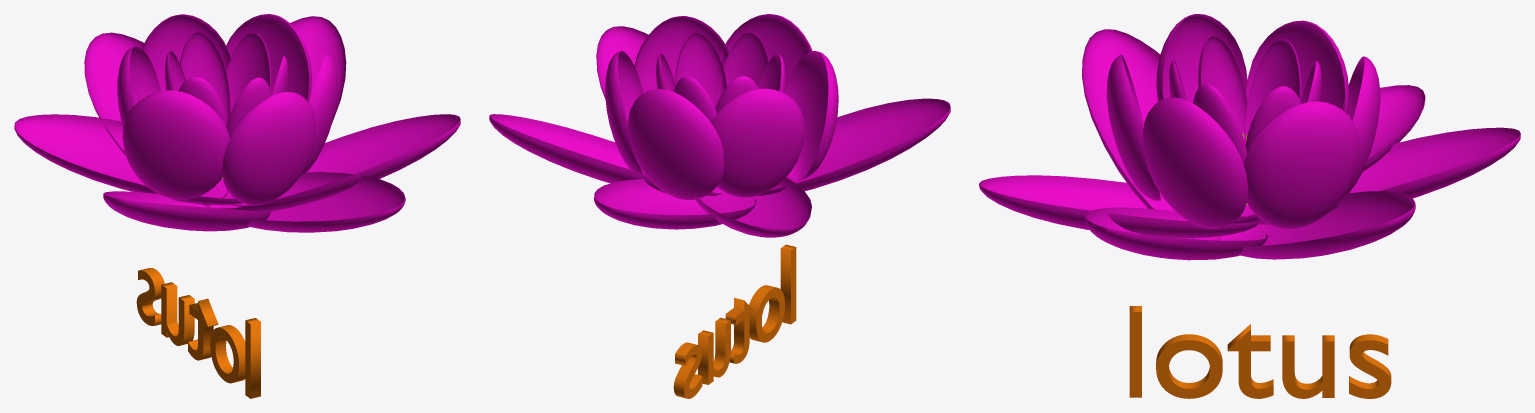
Rendered from lotus no.2.gltf.
3 views of the same model, side by side, from view 1: azimuth 30°, elevation 25°; view 2: azimuth 150°, elevation 25°; view 3: azimuth 270°, elevation 25° (orthographic). The views are drawn at different scales.
Visible parts, largest first — view 1: Sphere.012, Text; view 2: Sphere.012, Text; view 3: Sphere.012, Text.
Boxes of the visible parts, bbox=[...] form: Sphere.012: bbox=[14, 14, 460, 232]; Text: bbox=[136, 268, 260, 398]; Sphere.012: bbox=[489, 14, 950, 237]; Text: bbox=[673, 244, 796, 398]; Sphere.012: bbox=[979, 14, 1520, 260]; Text: bbox=[1129, 306, 1391, 398].
Bounding box in the file's own units: 3.33 × 2.77 × 3.9.
